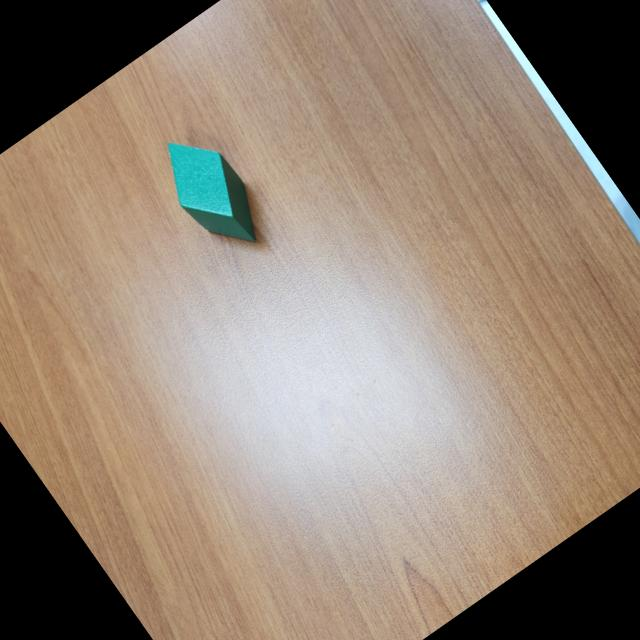green: (147, 120, 276, 264)
